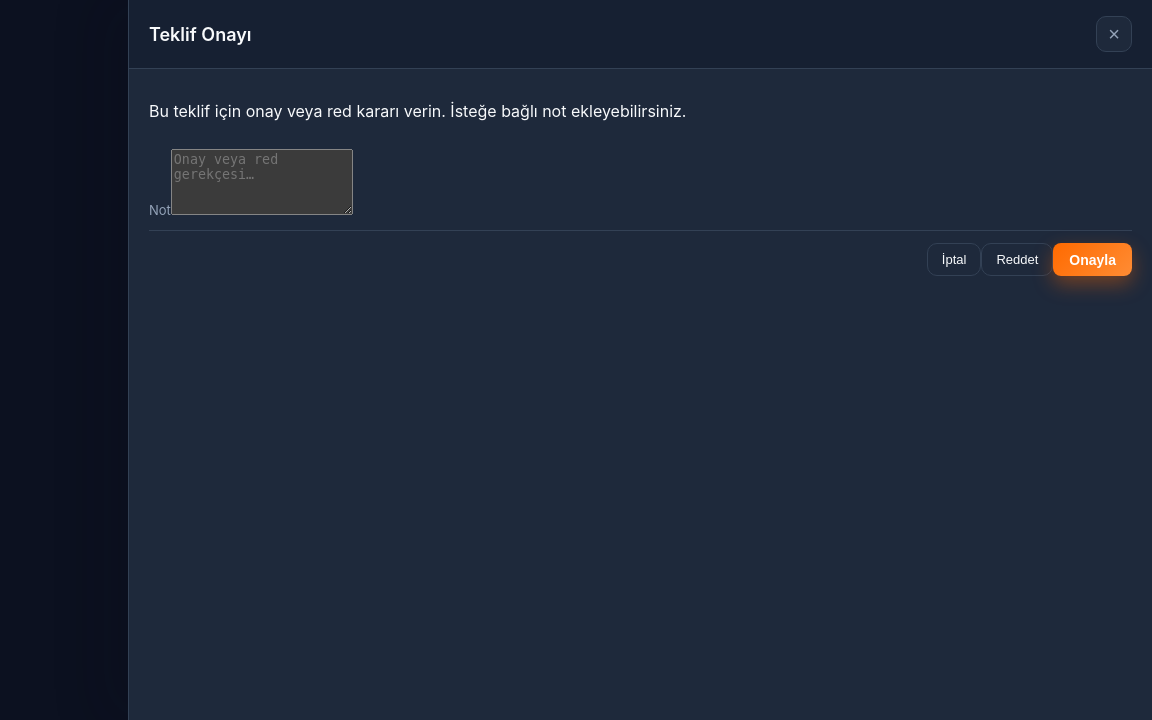
it: QuoteApprovalDrawer › shows forbidden state on approve
Click the button with test id "quote-approval-reject": click(1017, 260) [981, 243, 1053, 276]
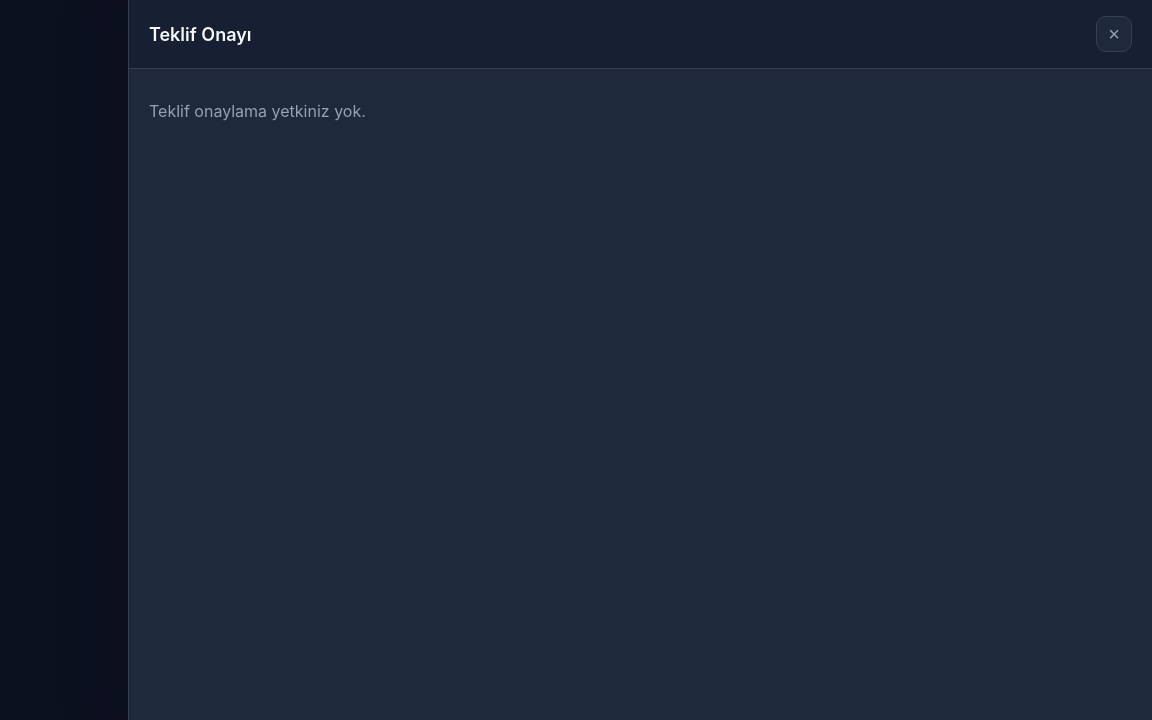
Result: the text "Teklif onaylama yetkiniz yok." is shown at [149, 101, 366, 121]
